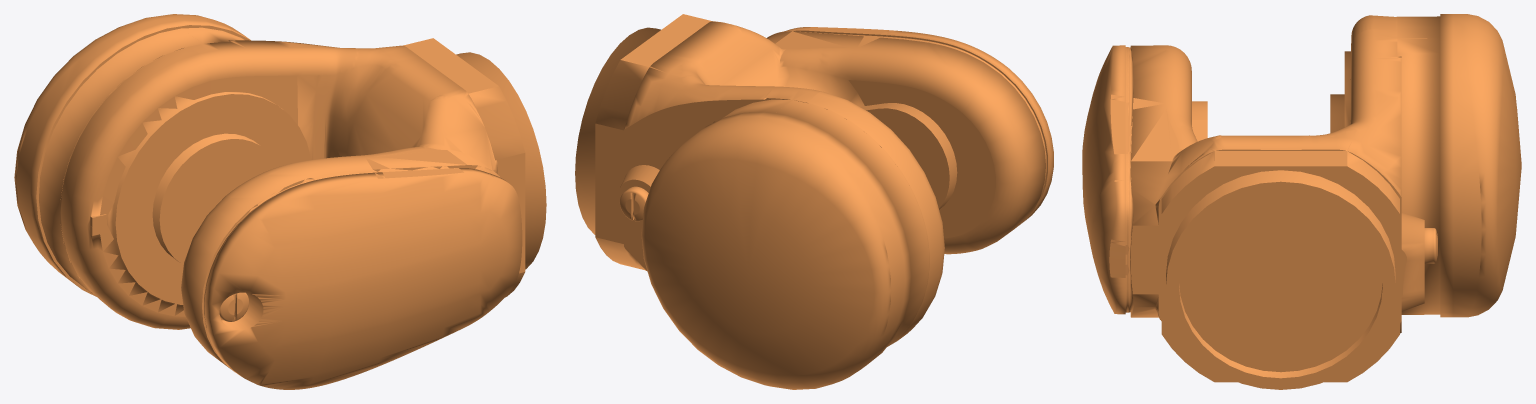
The picture shows the model from 3 angles, left to right: view 1: azimuth 30°, elevation 25°; view 2: azimuth 150°, elevation 25°; view 3: azimuth 270°, elevation 25°; orthographic projection. The views are drawn at different scales.
Parts seen in each view (by area): view 1: link_5; view 2: link_5; view 3: link_5.
Part boxes in pixels (box(x1,y1,x2,y2)): link_5: box(14, 14, 546, 389); link_5: box(575, 14, 1053, 389); link_5: box(1082, 14, 1521, 389).
Size of the model in its own units: 0.304 by 0.3062 by 0.212.
